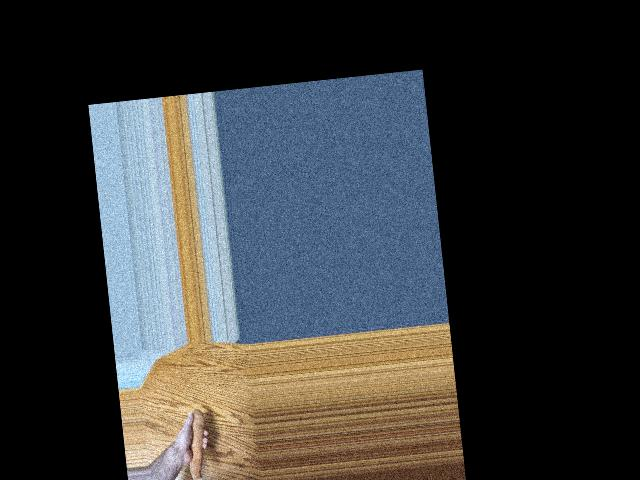sweet_potato: (181, 409, 213, 480)
